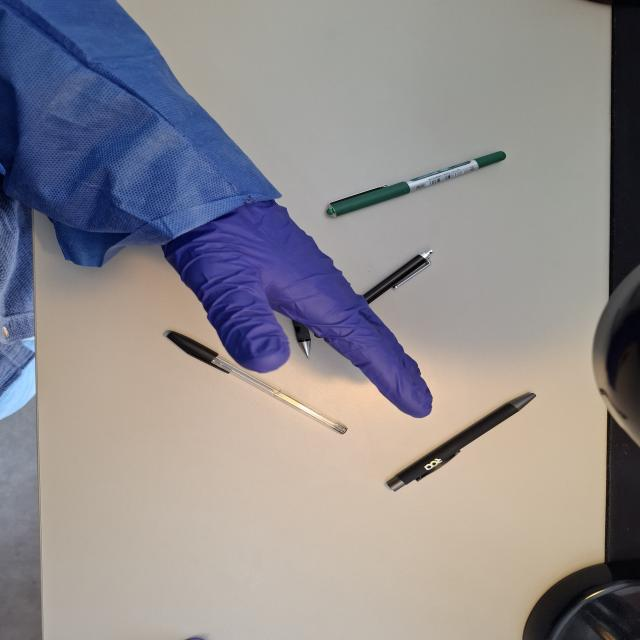glove_on: (156, 197, 436, 421)
